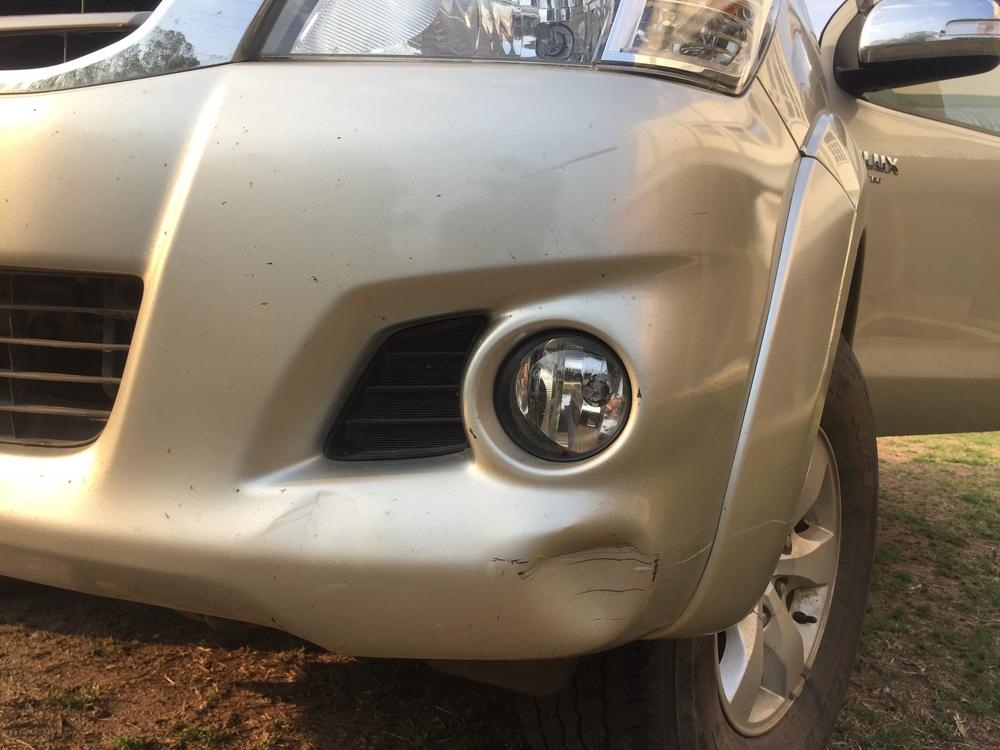dent: (523, 518, 654, 639)
